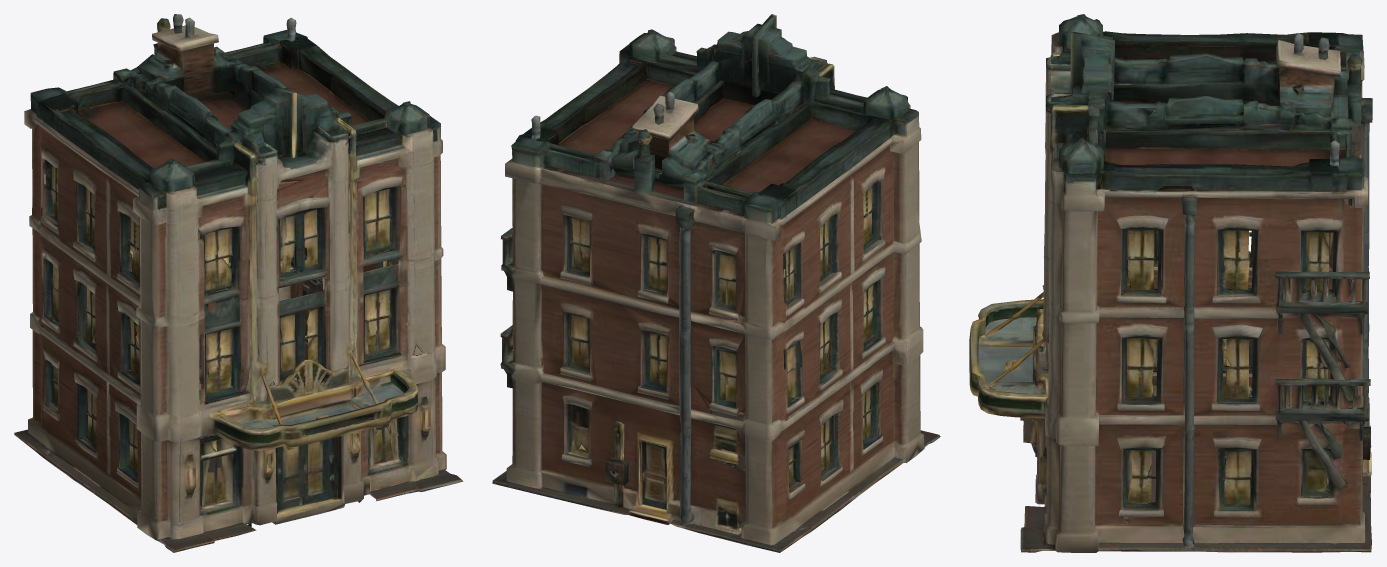
The model's file is candidate.glb.
3 views of the same model, side by side, from view 1: azimuth 30°, elevation 25°; view 2: azimuth 150°, elevation 25°; view 3: azimuth 270°, elevation 25° (orthographic). The views are drawn at different scales.
Visible parts, largest first — view 1: expansion__hotel_3__native_mobile; view 2: expansion__hotel_3__native_mobile; view 3: expansion__hotel_3__native_mobile.
Part boxes in pixels (x1,y1,x2,y2): expansion__hotel_3__native_mobile: [14, 14, 463, 552]; expansion__hotel_3__native_mobile: [492, 14, 940, 552]; expansion__hotel_3__native_mobile: [969, 14, 1372, 552].
Bounding box in the file's own units: 0.7396 × 1 × 0.8131.
1 material, 1 textured.
